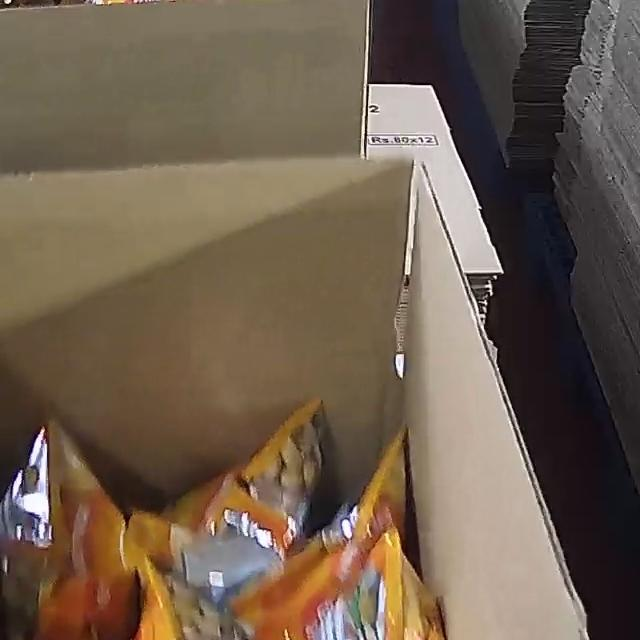cheese: (0, 394, 487, 640)
